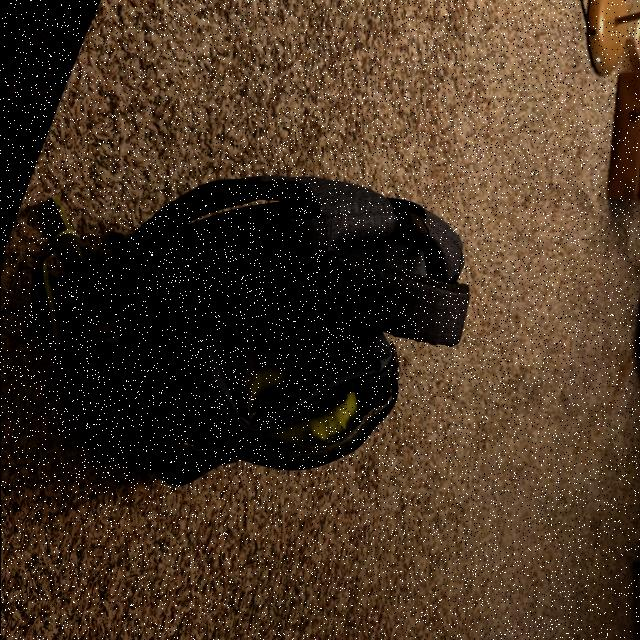bag: (56, 184, 457, 481)
